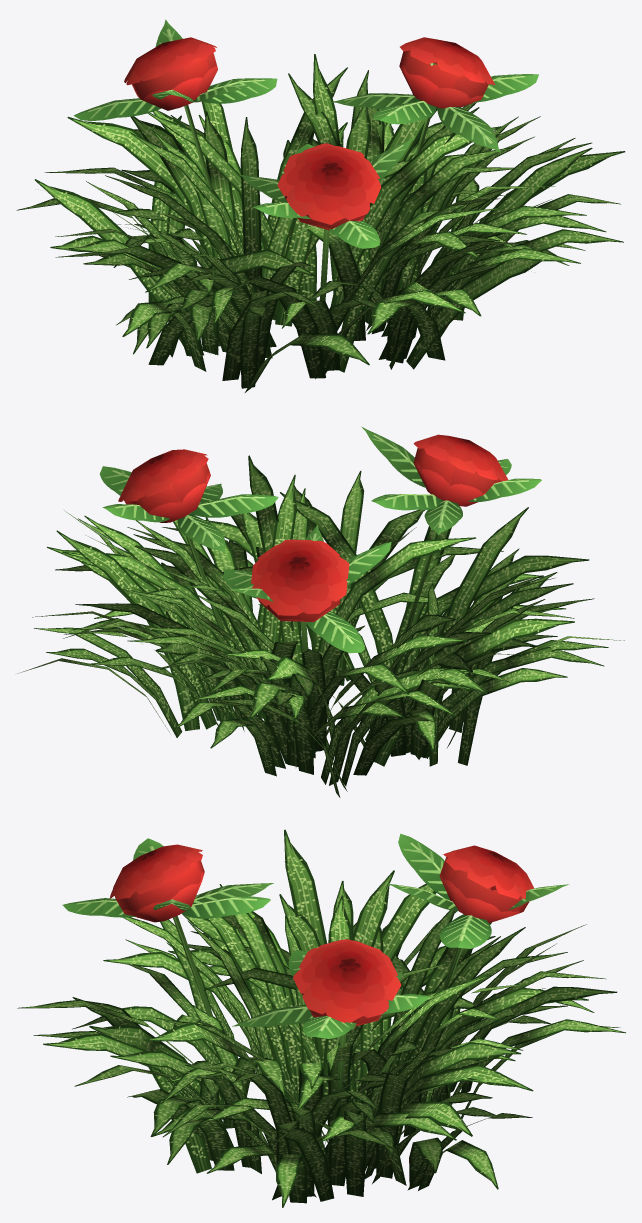
File: mm7_deco_flower03.glb
The picture shows the model from 3 angles, top to bottom: view 1: azimuth 30°, elevation 25°; view 2: azimuth 150°, elevation 25°; view 3: azimuth 270°, elevation 25°; orthographic projection. The views are drawn at different scales.
Visible parts, largest first — view 1: Plant; view 2: Plant; view 3: Plant.
Part boxes in pixels (x1,y1,x2,y2): Plant: (16,19,625,392); Plant: (18,426,624,797); Plant: (17,829,625,1207).
Size of the model in its own units: 2.98 by 1.31 by 2.82.
1 material, 1 textured.
